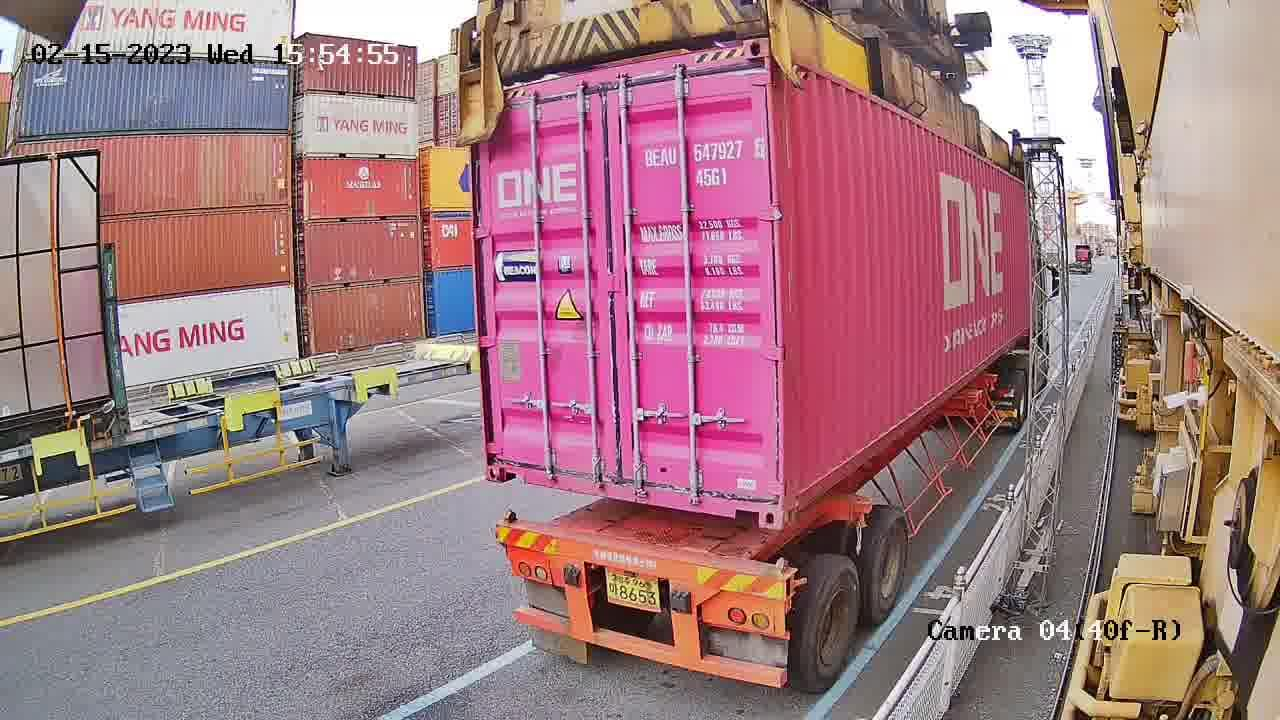Chassis: (500, 523, 797, 633)
Cone: (772, 554, 797, 605), (497, 507, 518, 556)
Hole_L: (780, 438, 821, 528), (483, 439, 529, 484)
Hole_R: (718, 458, 784, 530)
Tire: (801, 562, 862, 681), (863, 515, 912, 623)
